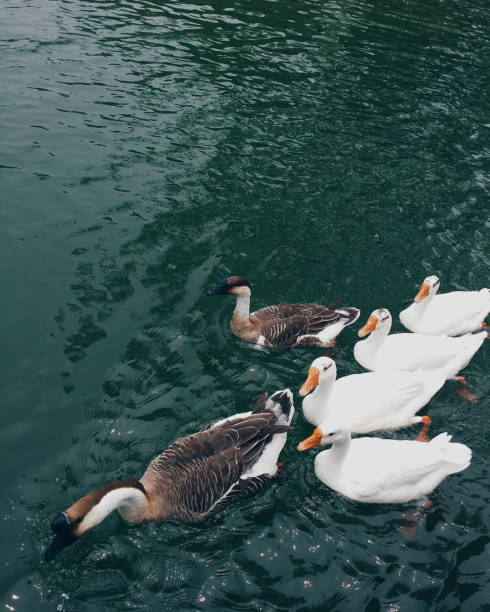goose: (34, 387, 296, 554), (286, 420, 490, 523), (292, 354, 455, 436), (203, 270, 358, 350), (350, 306, 490, 382), (396, 269, 490, 335)
